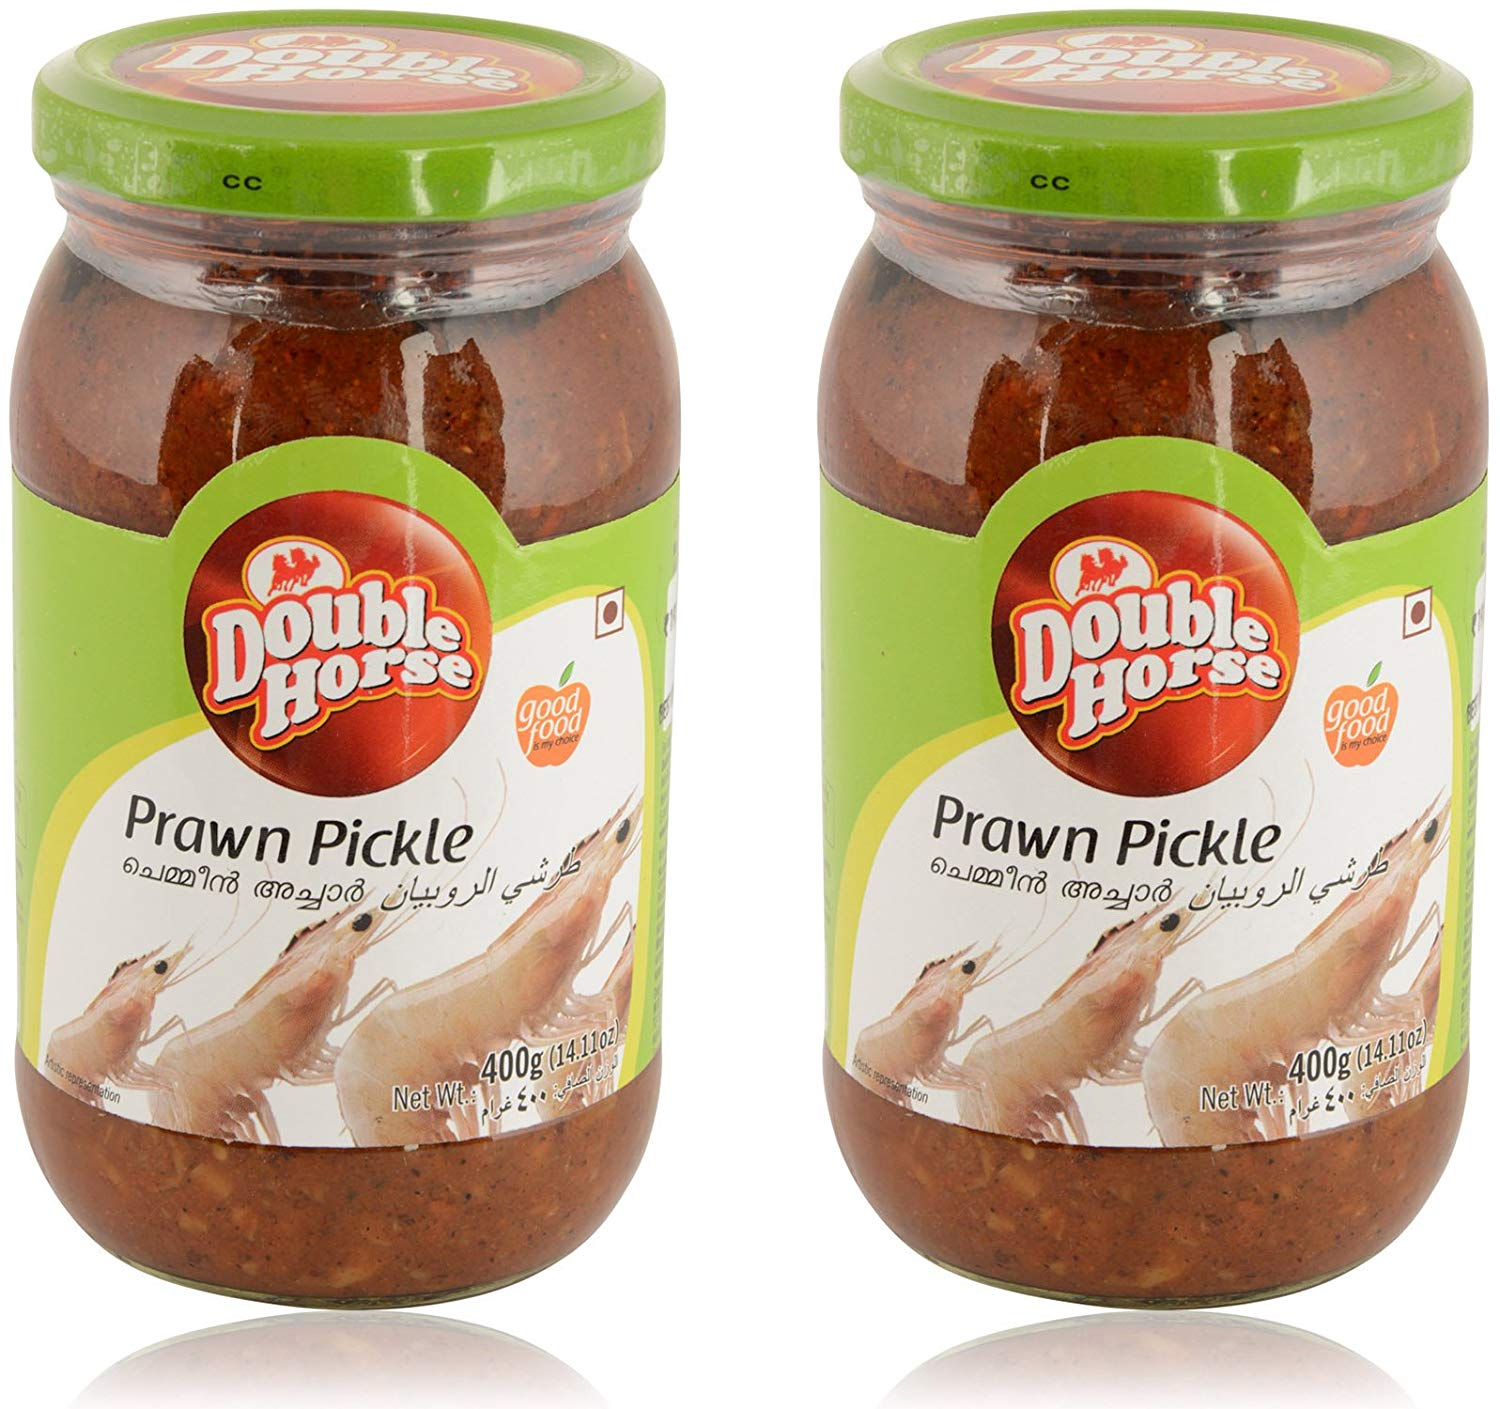nonveg_red: (1399, 584, 1435, 640), (593, 584, 628, 640)
